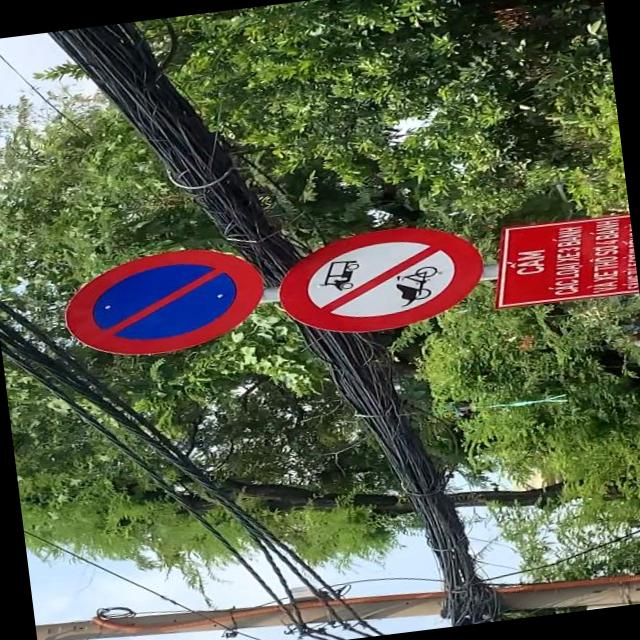P-131a: (56, 239, 268, 366)
